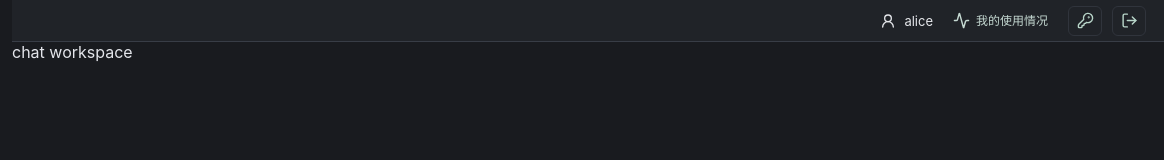
Scenario: personal usage entry and isolation › discards a pending usage response when a different account signs in
Click the button "我的使用情况": (1000, 20) [943,6,1058,36]
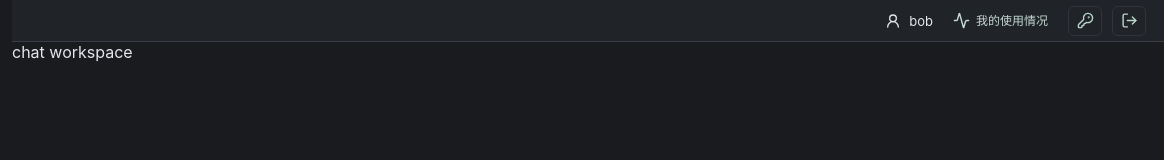
expect the text "bob" is shown: met, box [885,12,933,28]
